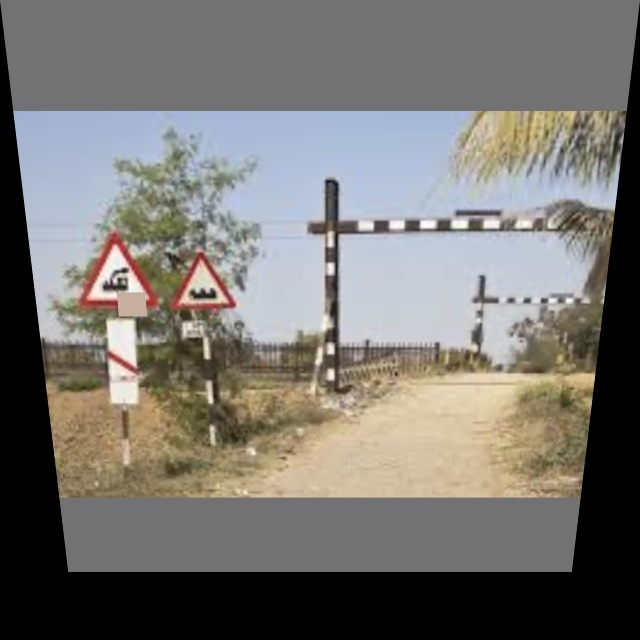Unguarded_Level_Crossing: (75, 228, 156, 315)
